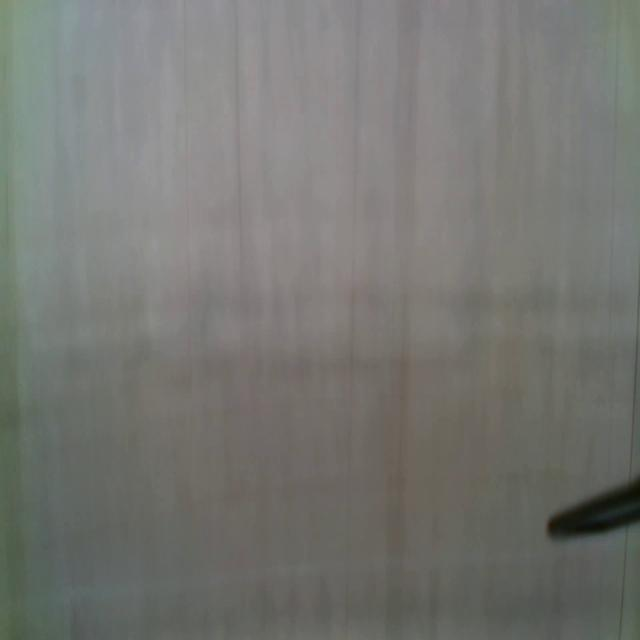color bleeding: (20, 276, 640, 382)
crease: (340, 1, 362, 636), (180, 0, 195, 379), (608, 4, 622, 290), (232, 0, 244, 249), (629, 291, 640, 477), (616, 528, 630, 640)
